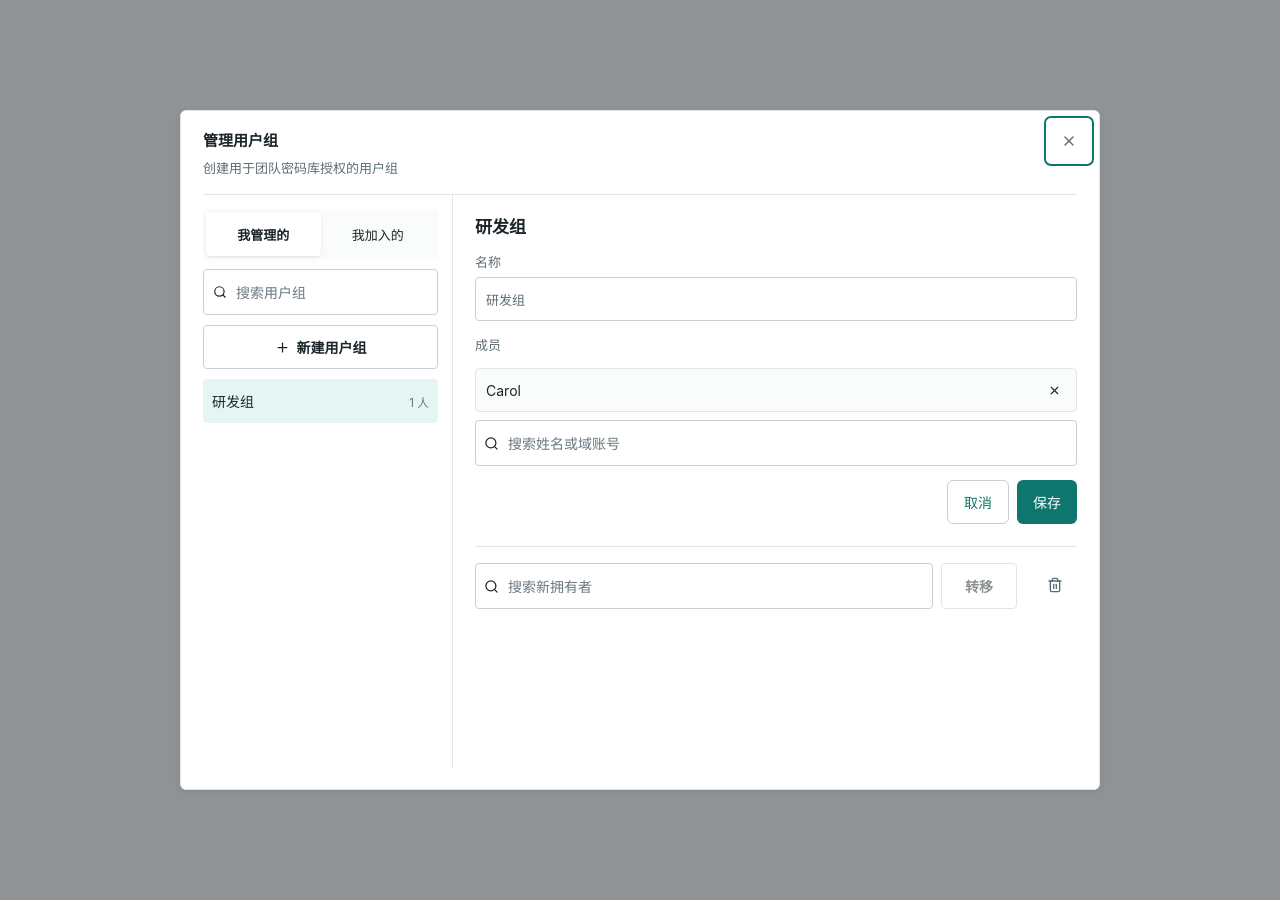
it: GroupsDialog › saves name and members with one revision-checked request
Replace the text in the field labelled "名称" with "研发平台组": (776, 299) [475,277,1077,321]
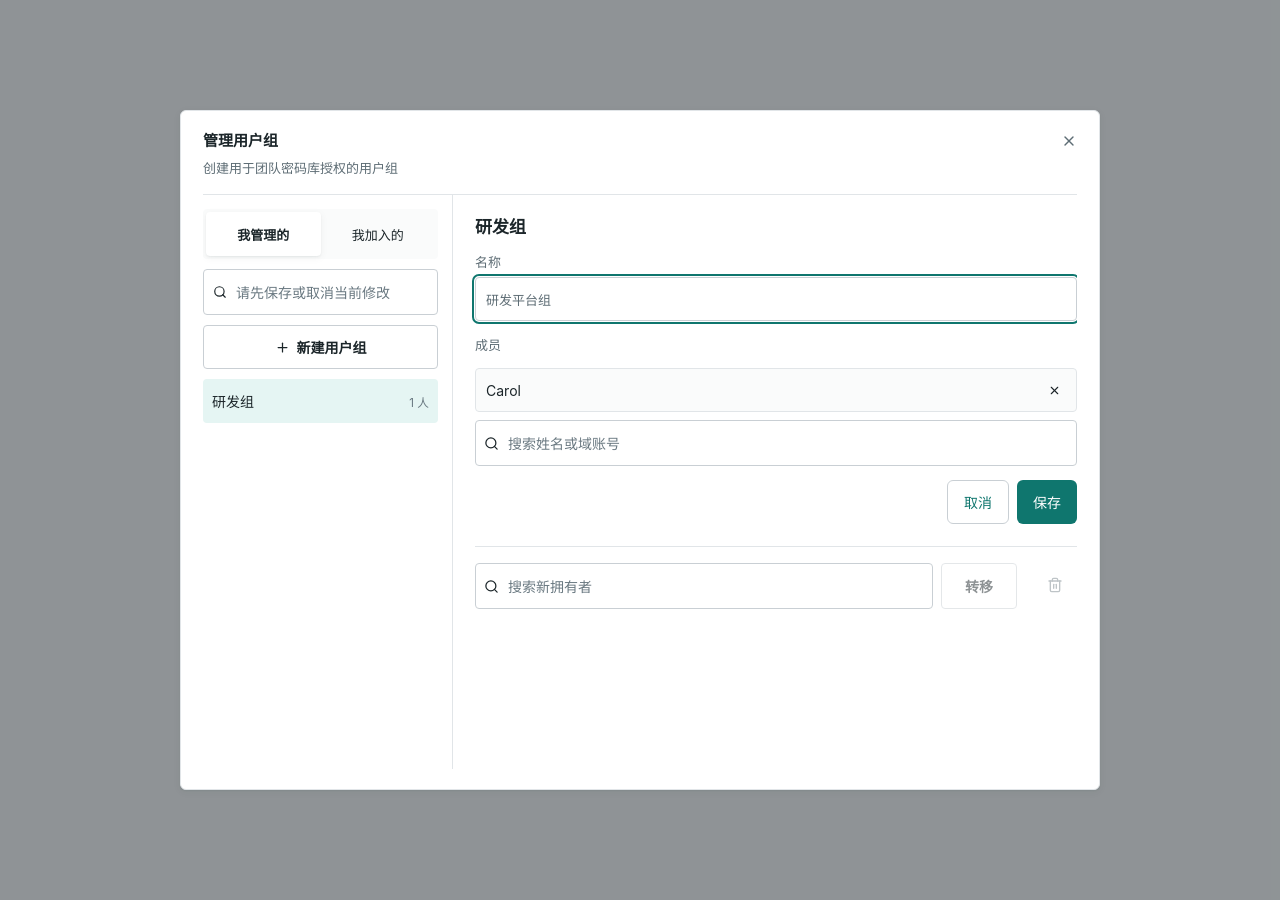
Click the button "保存": (1047, 502) [1017,480,1077,524]
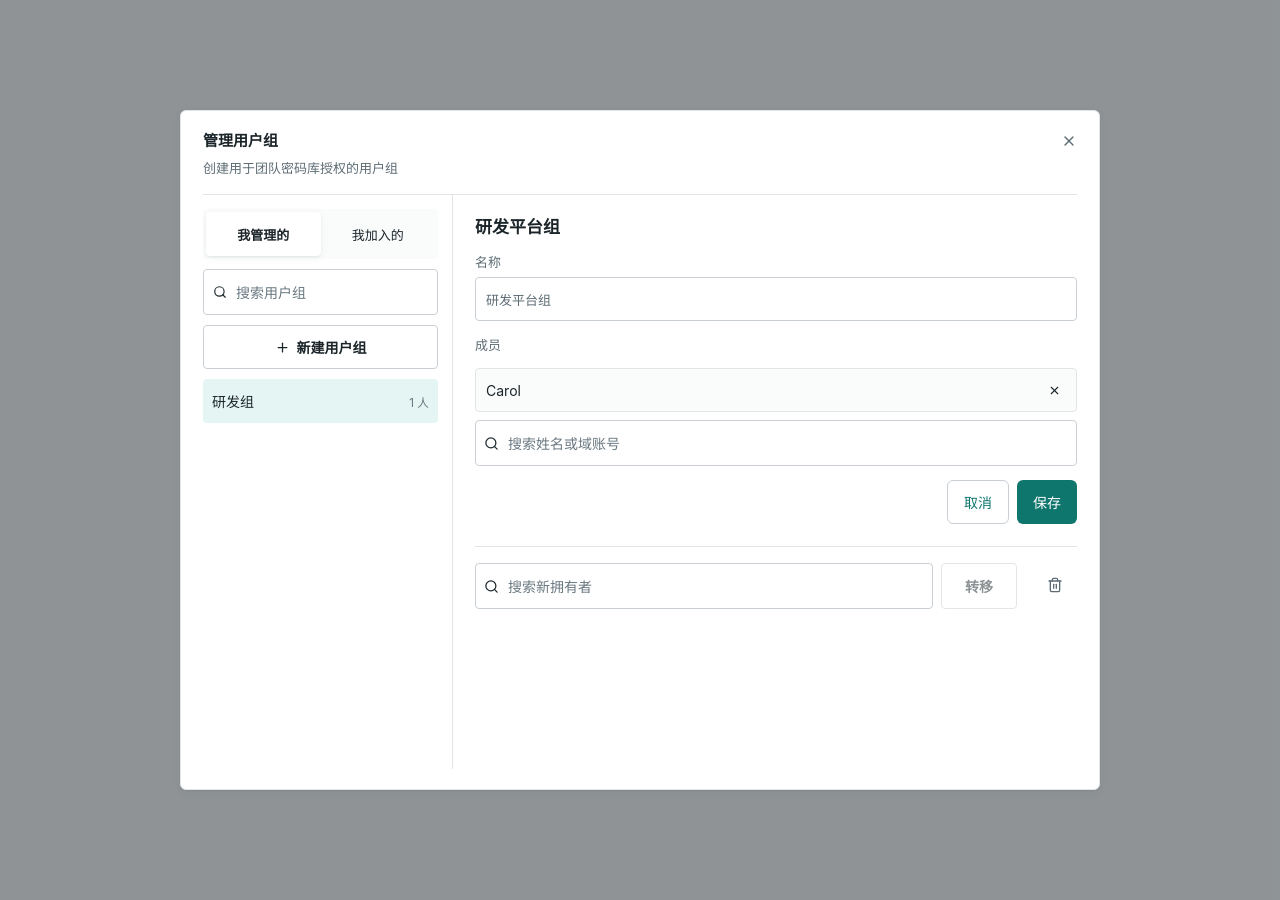
Check: the heading "研发平台组" is shown, box [475,213,560,238]
